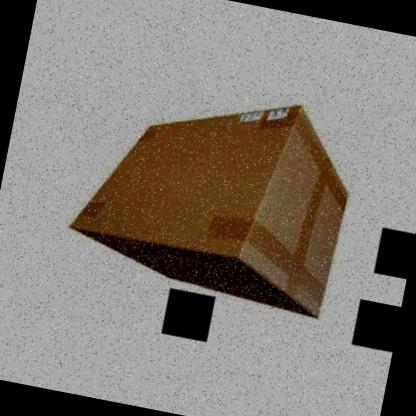box: (57, 60, 370, 330)
